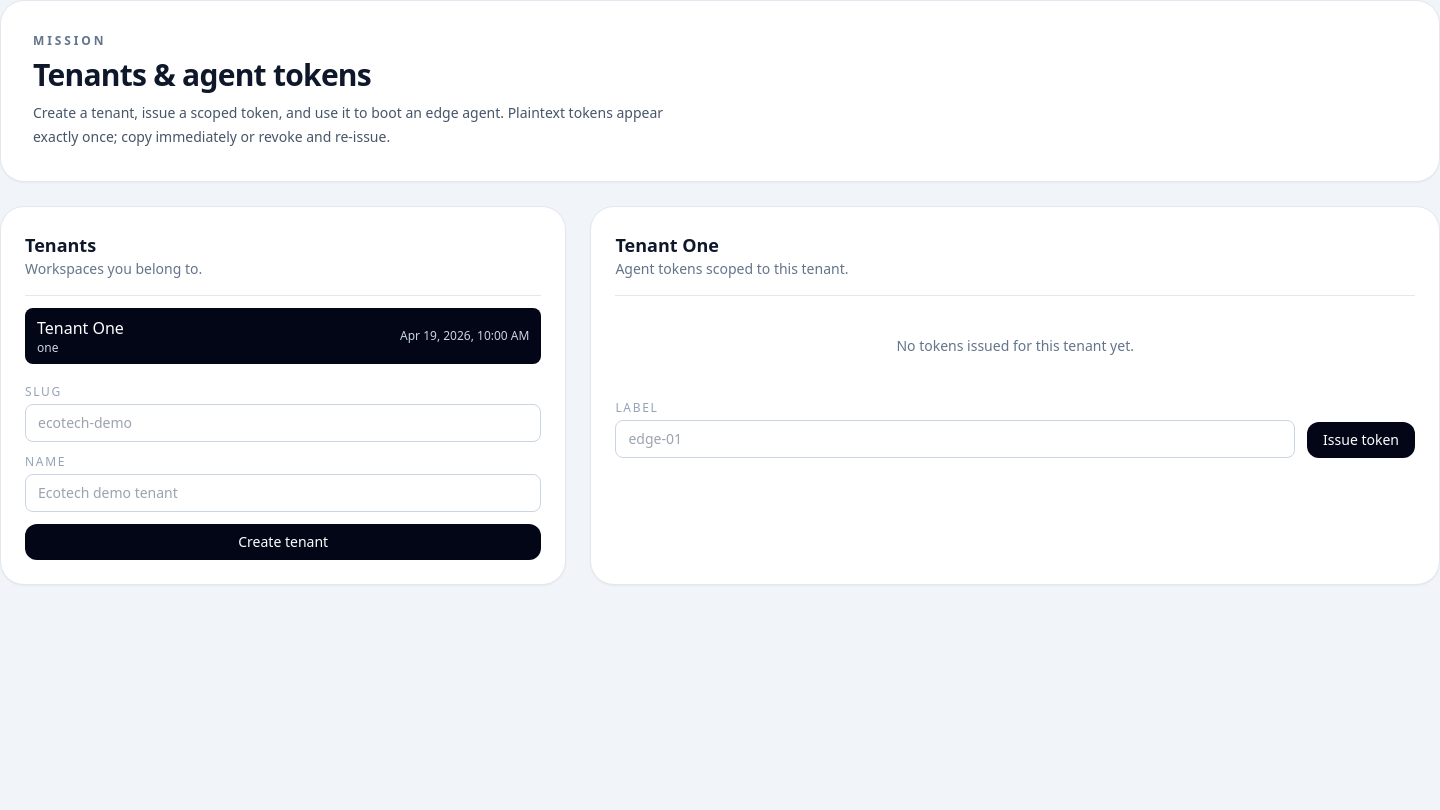
Test: TenantsPage › reports clipboard failures
Type "edge-1" into the field with placeholder "edge-01".
click(955, 439); type("edge-1")  # box [615,420,1295,458]
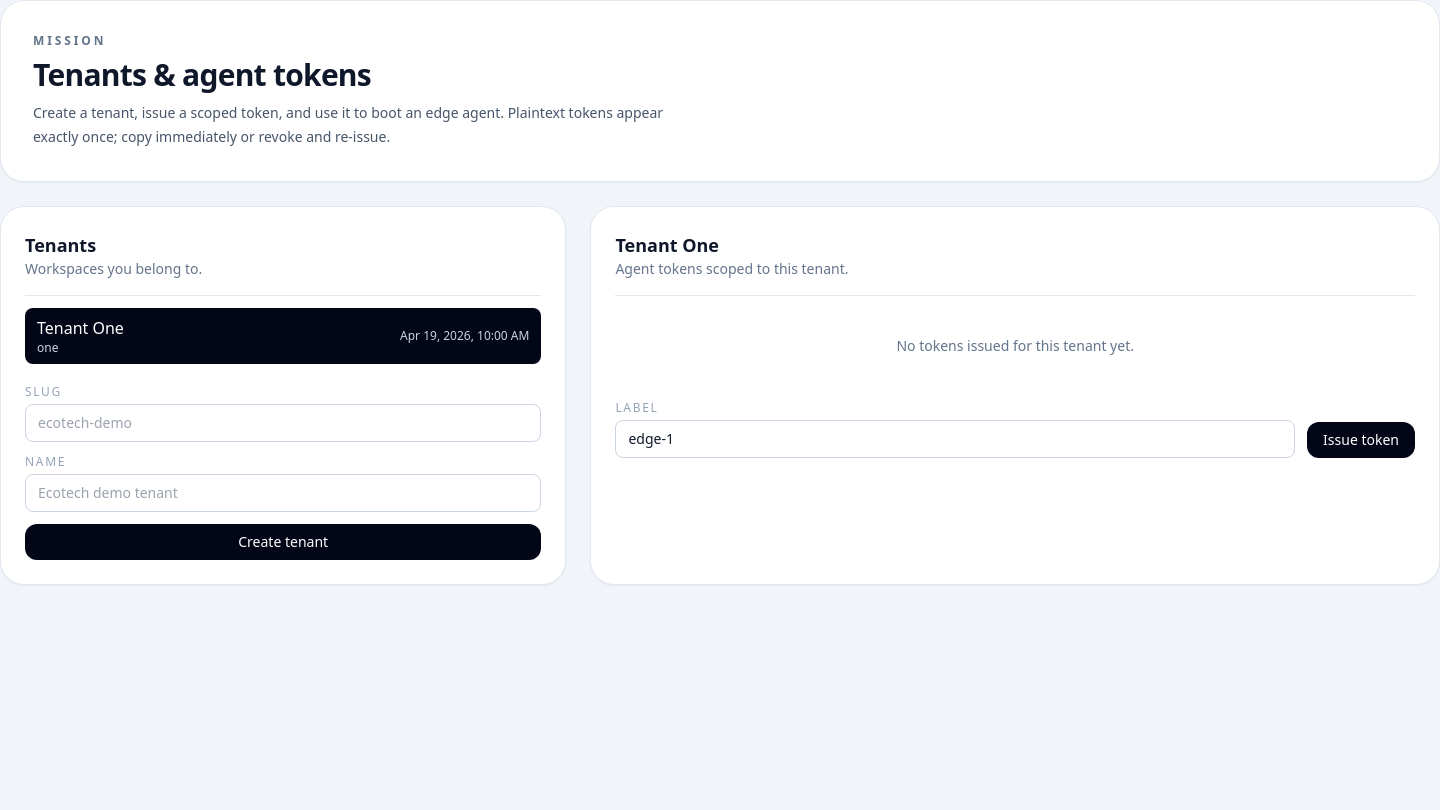
Click the button "Issue token".
click(1361, 440)  # box [1307,422,1415,458]
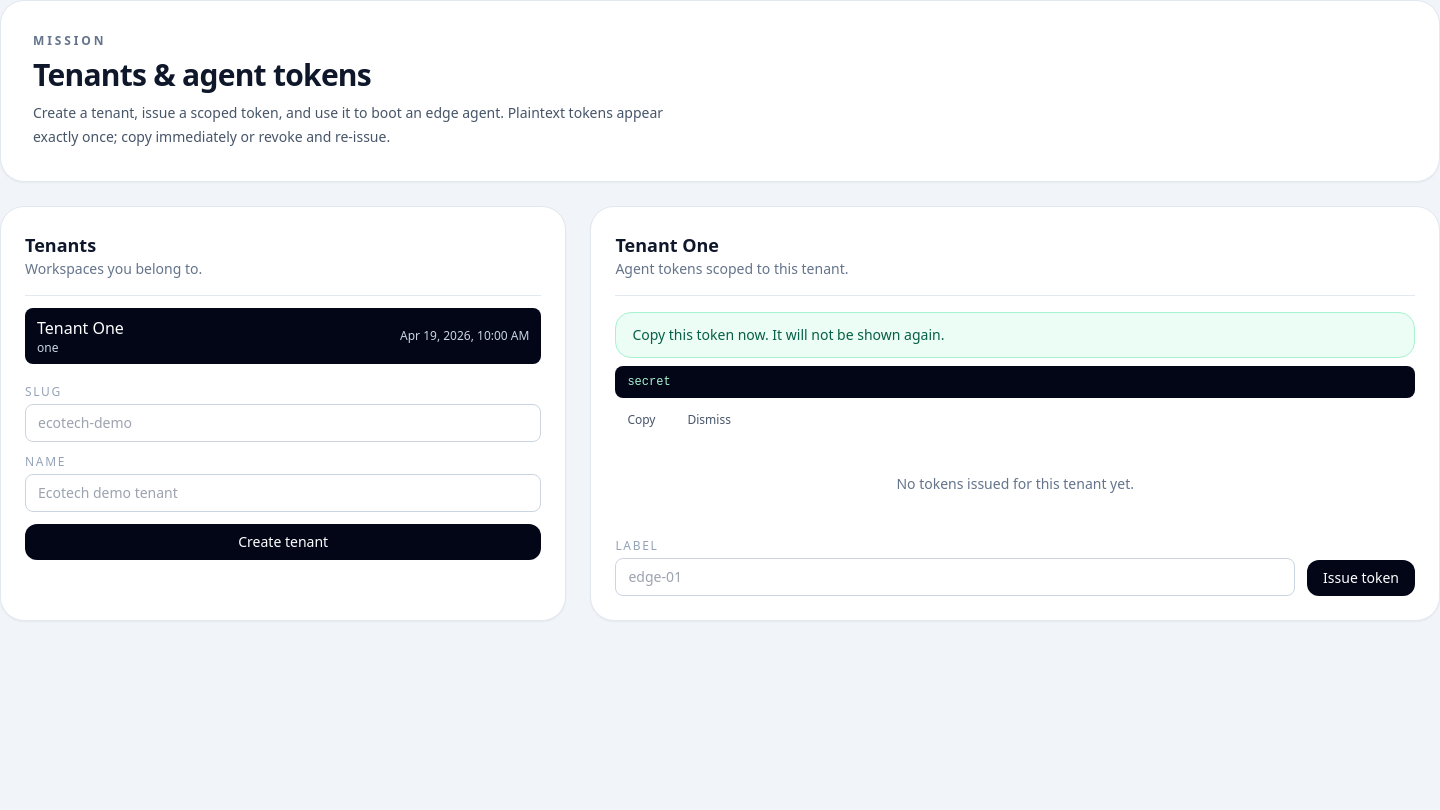
Expected: the text "secret" is shown, [615,366,1415,398]
Click the button "Copy".
click(641, 420)  # box [615,406,668,434]
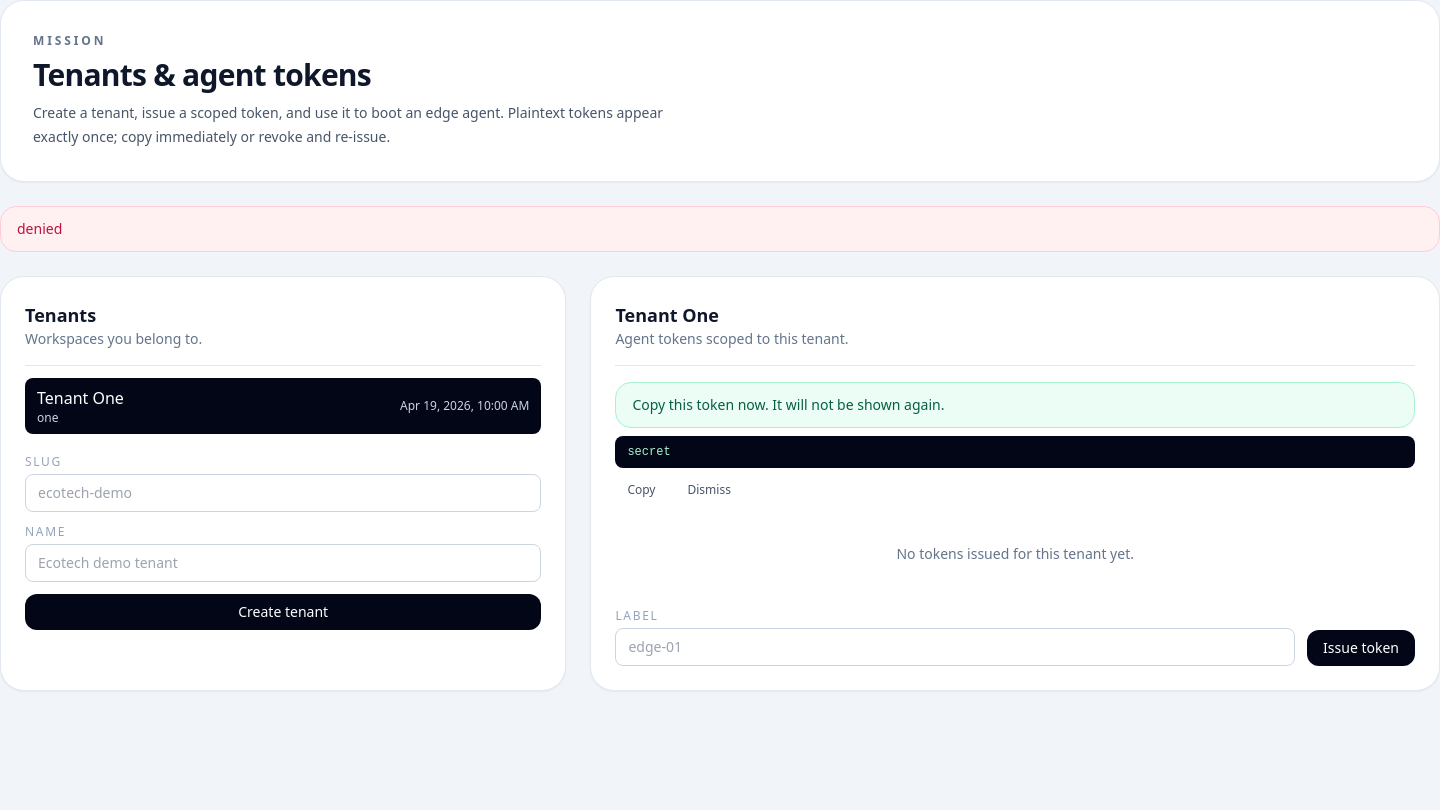
Expected: the text "denied" is shown, [0,206,1439,252]
